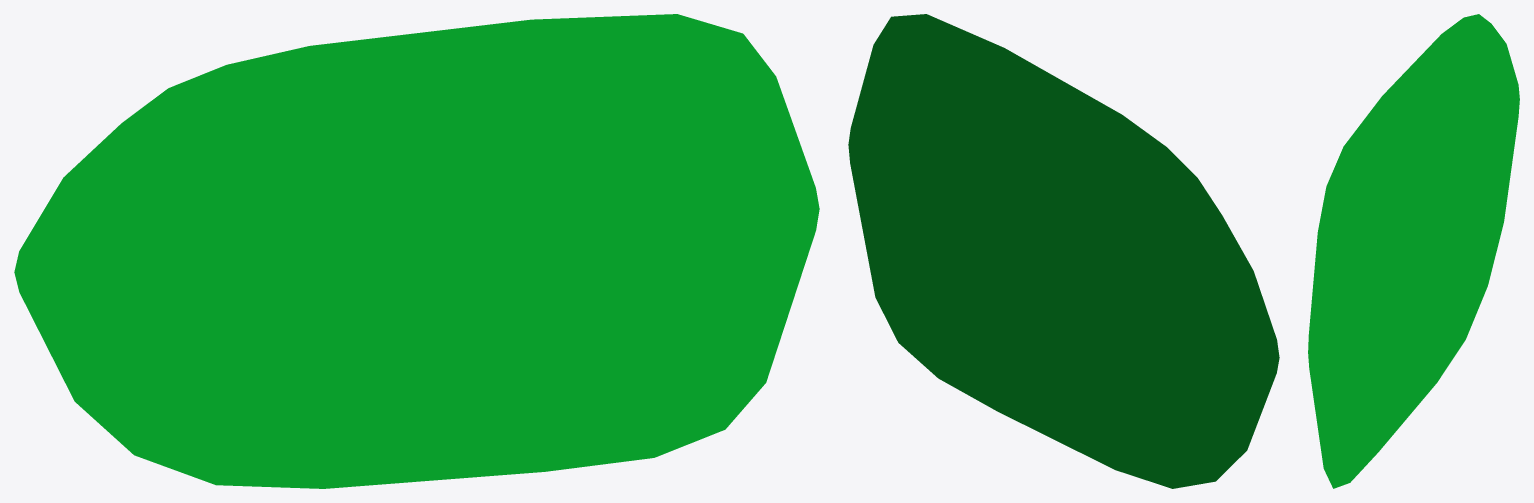
File: Leftview_Mirror.fbx
3 renders of one model, left to right at view 1: azimuth 30°, elevation 25°; view 2: azimuth 150°, elevation 25°; view 3: azimuth 270°, elevation 25°, orthographic. The views are drawn at different scales.
Parts seen in each view (by area): view 1: Leftview_Mirror; view 2: Leftview_Mirror; view 3: Leftview_Mirror.
Part boxes in pixels (x1,y1,x2,y2): Leftview_Mirror: (14, 14, 819, 488); Leftview_Mirror: (848, 14, 1279, 488); Leftview_Mirror: (1308, 14, 1519, 488).
Bounding box in the file's own units: 1993 × 1291 × 704.
